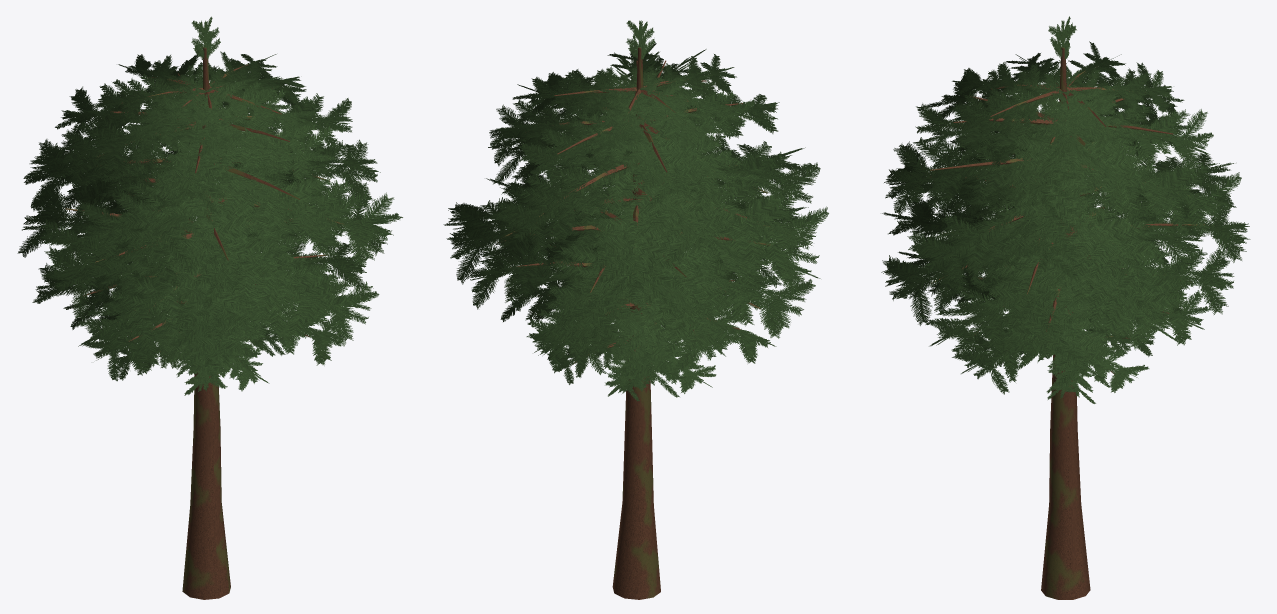
The model's file is tree_pine_b.glb.
3 views of the same model, side by side, from view 1: azimuth 30°, elevation 25°; view 2: azimuth 150°, elevation 25°; view 3: azimuth 270°, elevation 25° (orthographic).
Parts seen in each view (by area): view 1: tree_pine_b; view 2: tree_pine_b; view 3: tree_pine_b.
Part boxes in pixels (left/top/right/bottom): tree_pine_b: left=17, top=16, right=402, bottom=599; tree_pine_b: left=443, top=20, right=828, bottom=599; tree_pine_b: left=881, top=16, right=1250, bottom=599.
Bounding box in the file's own units: 4.98 × 7.94 × 5.02.
2 materials, 2 textured.
